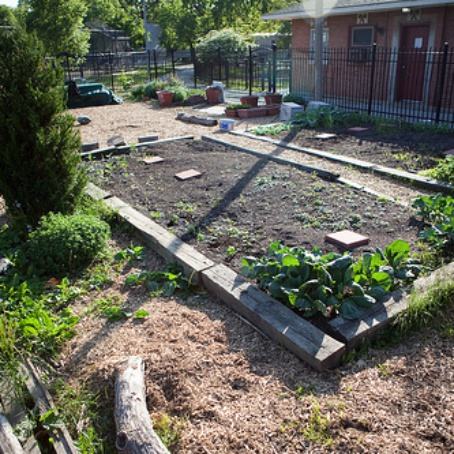building: (277, 1, 454, 111)
dirt: (108, 124, 415, 331)
tree: (1, 1, 81, 273)
vegetation: (18, 1, 285, 67)
